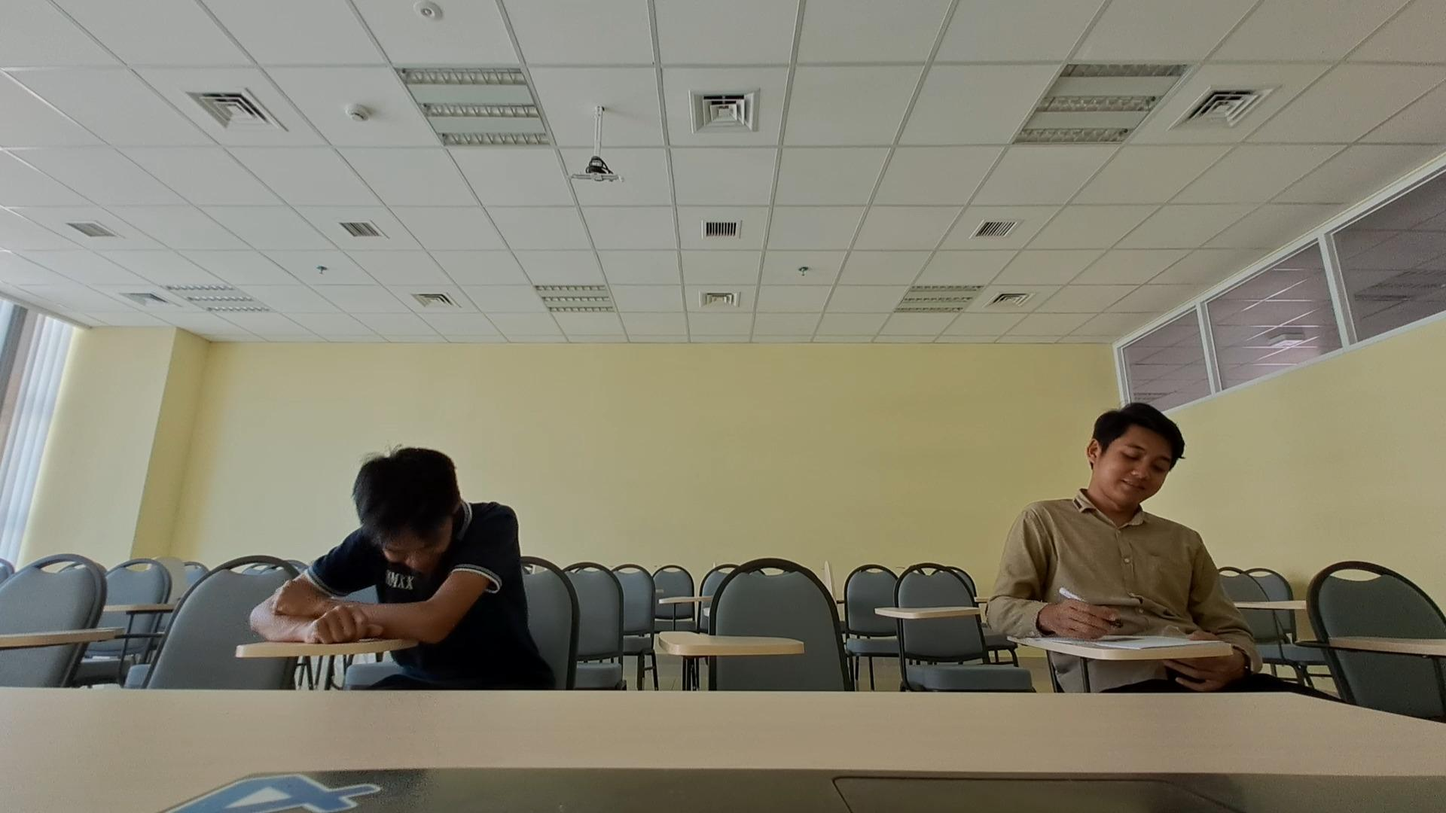sleep: (249, 445, 523, 652)
study: (989, 396, 1246, 636)
